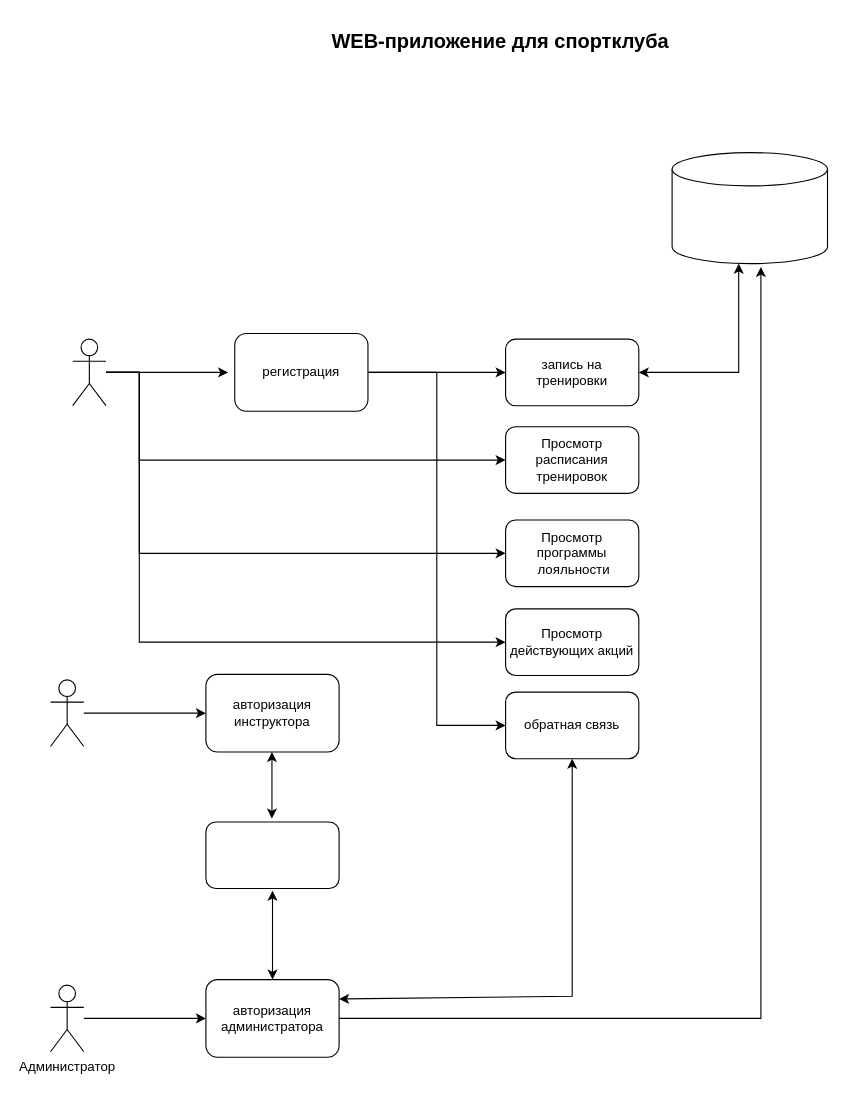
This 847x1093 diagram has some shape labels left out. The box of each missing label's shape, as (x1, y1, x2, y2) in pixels:
Client: (72, 338, 106, 406)
БД: (671, 152, 828, 264)
Инструктор: (49, 679, 84, 746)
служебные чаты: (205, 821, 339, 889)
